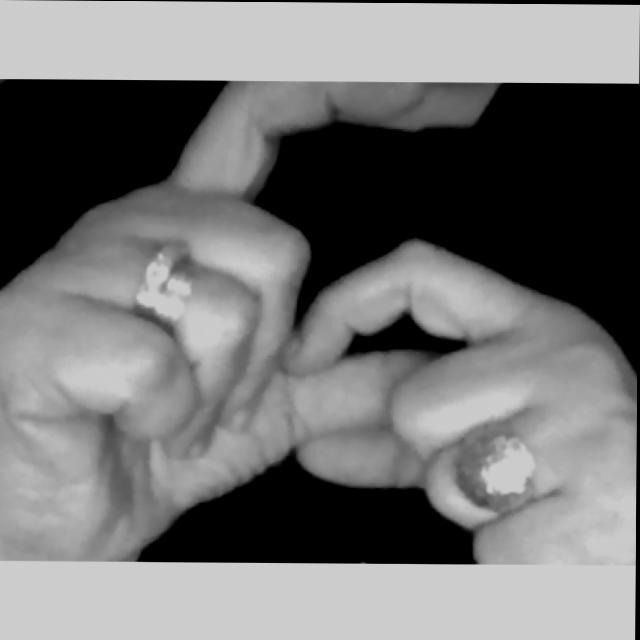G-: (0, 77, 639, 564)
